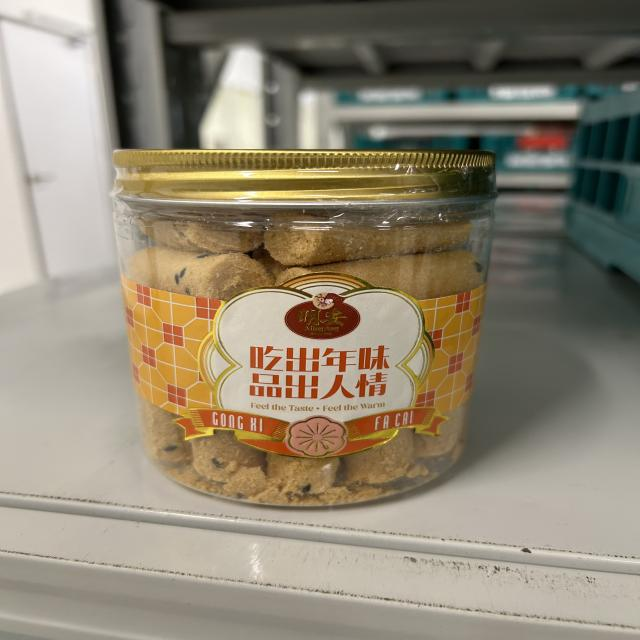object_name: (125, 155, 459, 482)
